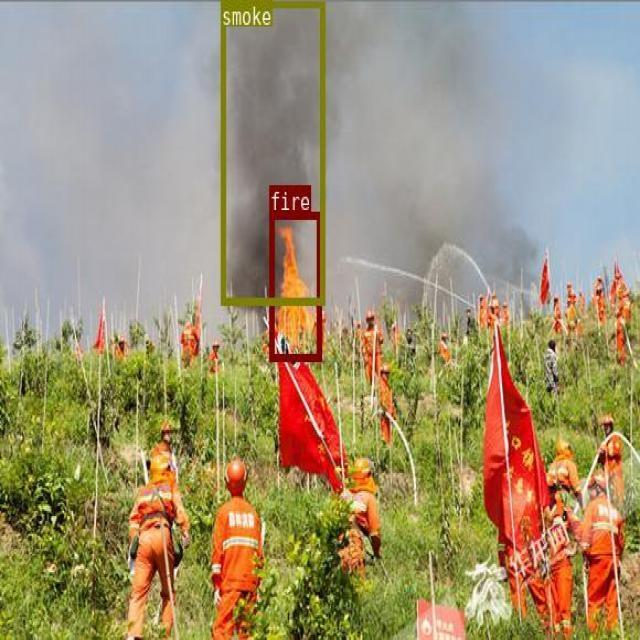fire: (269, 210, 320, 360)
smoke: (220, 0, 324, 303)
